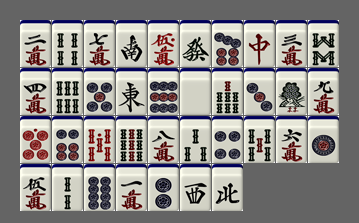0m: (148, 20, 179, 67)
0p: (20, 116, 51, 163)
0s: (84, 116, 115, 163)
1m: (116, 164, 147, 211)
1p: (308, 116, 339, 163)
1s: (276, 68, 307, 115)
1z: (116, 68, 147, 115)
2m: (20, 20, 51, 67)
2p: (148, 164, 179, 211)
2s: (52, 164, 83, 211)
2z: (116, 20, 147, 67)
3m: (276, 20, 307, 67)
3p: (244, 68, 275, 115)
3s: (180, 116, 211, 163)
3z: (180, 164, 211, 211)
4m: (20, 68, 51, 115)
4p: (212, 116, 243, 163)
4s: (52, 20, 83, 67)
4z: (212, 164, 243, 211)
5m: (20, 164, 51, 211)
5p: (84, 68, 115, 115)
5s: (244, 116, 275, 163)
5z: (180, 68, 211, 115)
6m: (276, 116, 307, 163)
6p: (52, 116, 83, 163)
6s: (52, 68, 83, 115)
6z: (180, 20, 211, 67)
7m: (84, 20, 115, 67)
7p: (212, 20, 243, 67)
7s: (212, 68, 243, 115)
7z: (244, 20, 275, 67)
8m: (148, 116, 179, 163)
8p: (84, 164, 115, 211)
8s: (308, 20, 339, 67)
9m: (308, 68, 339, 115)
9p: (148, 68, 179, 115)
9s: (116, 116, 147, 163)
